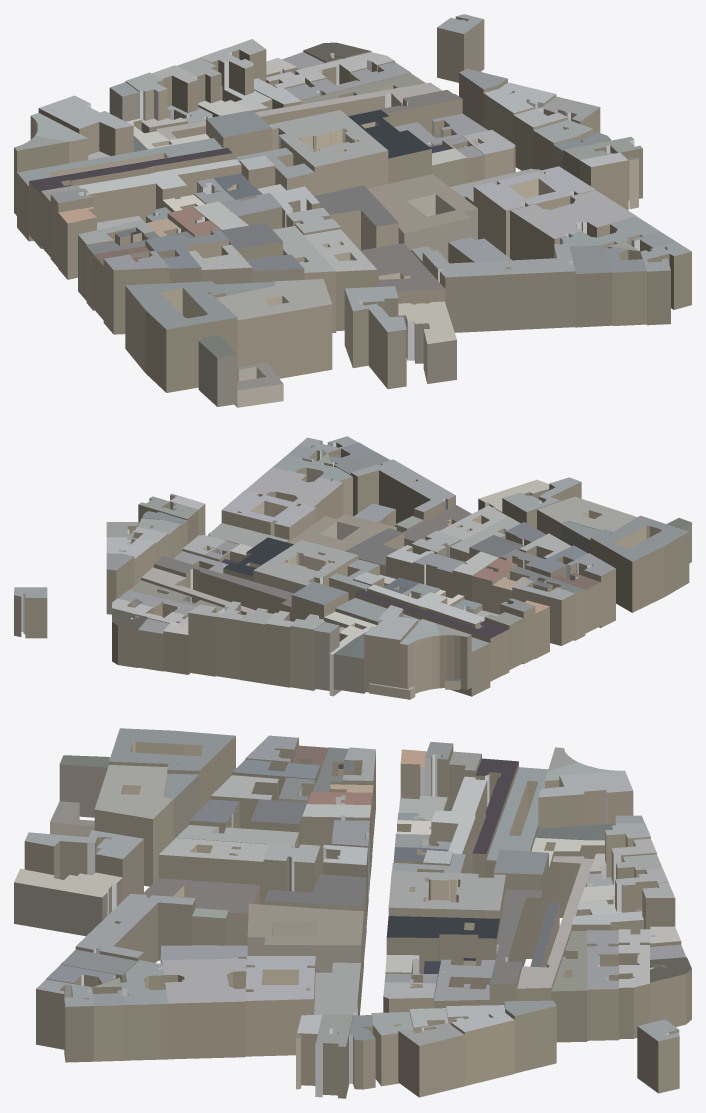
The picture shows the model from 3 angles, top to bottom: view 1: azimuth 30°, elevation 25°; view 2: azimuth 150°, elevation 25°; view 3: azimuth 270°, elevation 25°; orthographic projection. The views are drawn at different scales.
Visible parts, largest first — view 1: tuile; view 2: tuile; view 3: tuile.
Part boxes in pixels (x1,y1,x2,y2): tuile: (14, 14, 691, 407); tuile: (14, 436, 691, 699); tuile: (14, 728, 691, 1098).
Size of the model in its own units: 265 by 41.02 by 259.
